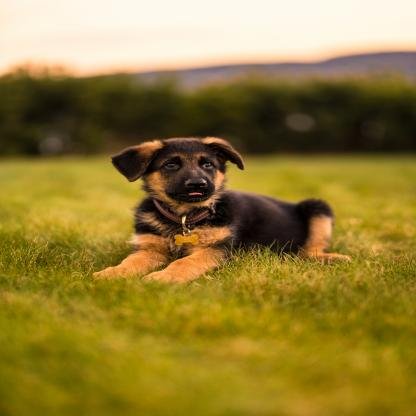dog: (91, 133, 354, 286)
